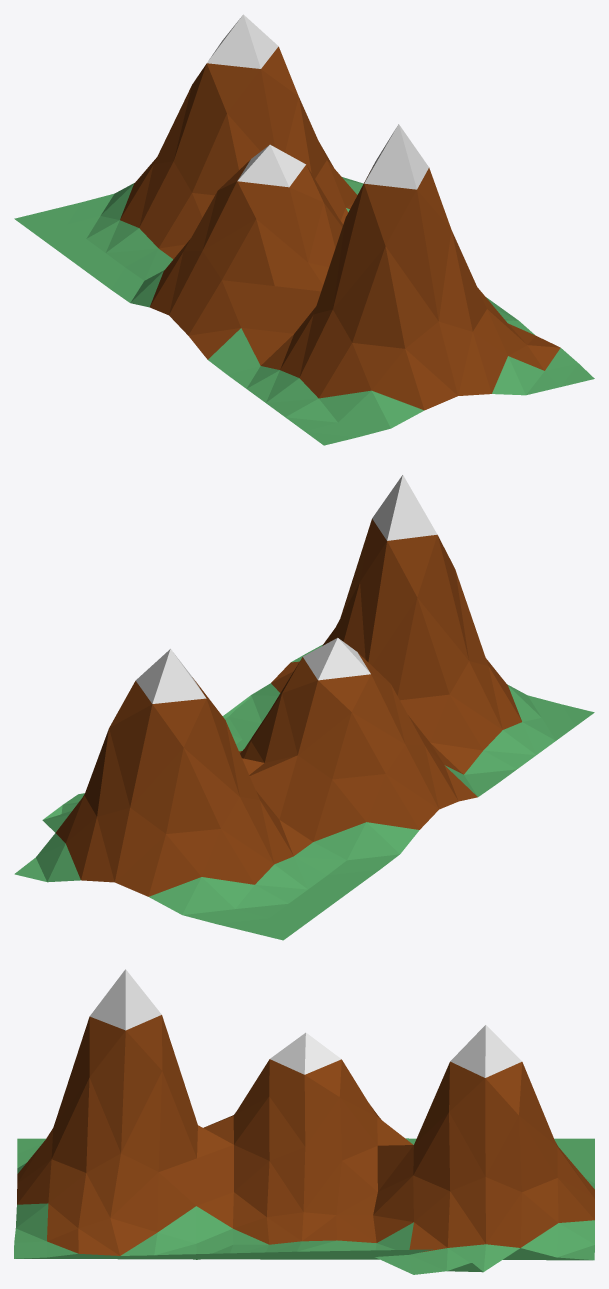
File: MONTAÑAS.fbx
The picture shows the model from 3 angles, top to bottom: view 1: azimuth 30°, elevation 25°; view 2: azimuth 150°, elevation 25°; view 3: azimuth 270°, elevation 25°; orthographic projection. The views are drawn at different scales.
Visible parts, largest first — view 1: Plane; view 2: Plane; view 3: Plane.
Boxes of the visible parts, x1=… form: Plane: x1=14, y1=14, x2=594, y2=445; Plane: x1=14, y1=475, x2=594, y2=940; Plane: x1=14, y1=969, x2=594, y2=1274.
Size of the model in its own units: 240 by 188 by 430.
